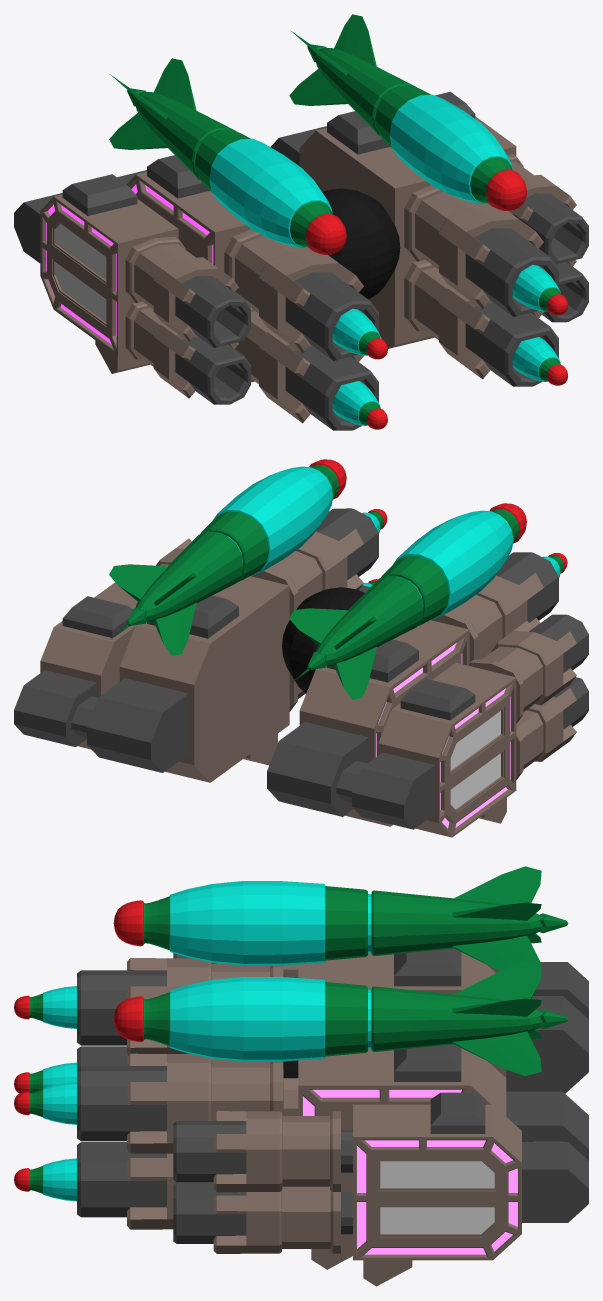
File: Turret_head.fbx
The picture shows the model from 3 angles, top to bottom: view 1: azimuth 30°, elevation 25°; view 2: azimuth 150°, elevation 25°; view 3: azimuth 270°, elevation 25°; orthographic projection. The views are drawn at different scales.
Parts seen in each view (by area): view 1: Cube.003; view 2: Cube.003; view 3: Cube.003.
Boxes of the visible parts, x1,y1,x2,y2 form: Cube.003: (14,14,588,430); Cube.003: (14,459,588,837); Cube.003: (14,866,588,1286).
Bounding box in the file's own units: 573 × 344 × 656.
